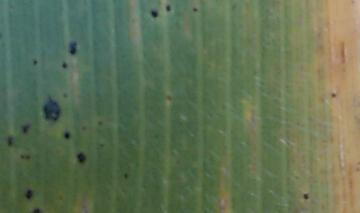tarspot: (41, 96, 62, 122), (68, 37, 78, 55), (76, 151, 87, 165), (21, 123, 30, 134), (149, 9, 160, 18), (7, 133, 13, 147), (26, 188, 33, 199), (79, 123, 88, 131), (31, 58, 39, 66), (165, 94, 173, 102), (64, 131, 71, 140), (165, 2, 171, 12), (303, 191, 309, 201), (19, 153, 26, 161), (192, 5, 199, 13), (330, 91, 337, 99), (32, 207, 41, 213), (98, 142, 107, 148), (123, 172, 129, 180), (26, 153, 31, 161), (63, 60, 67, 69), (98, 120, 104, 126), (62, 93, 69, 98)
